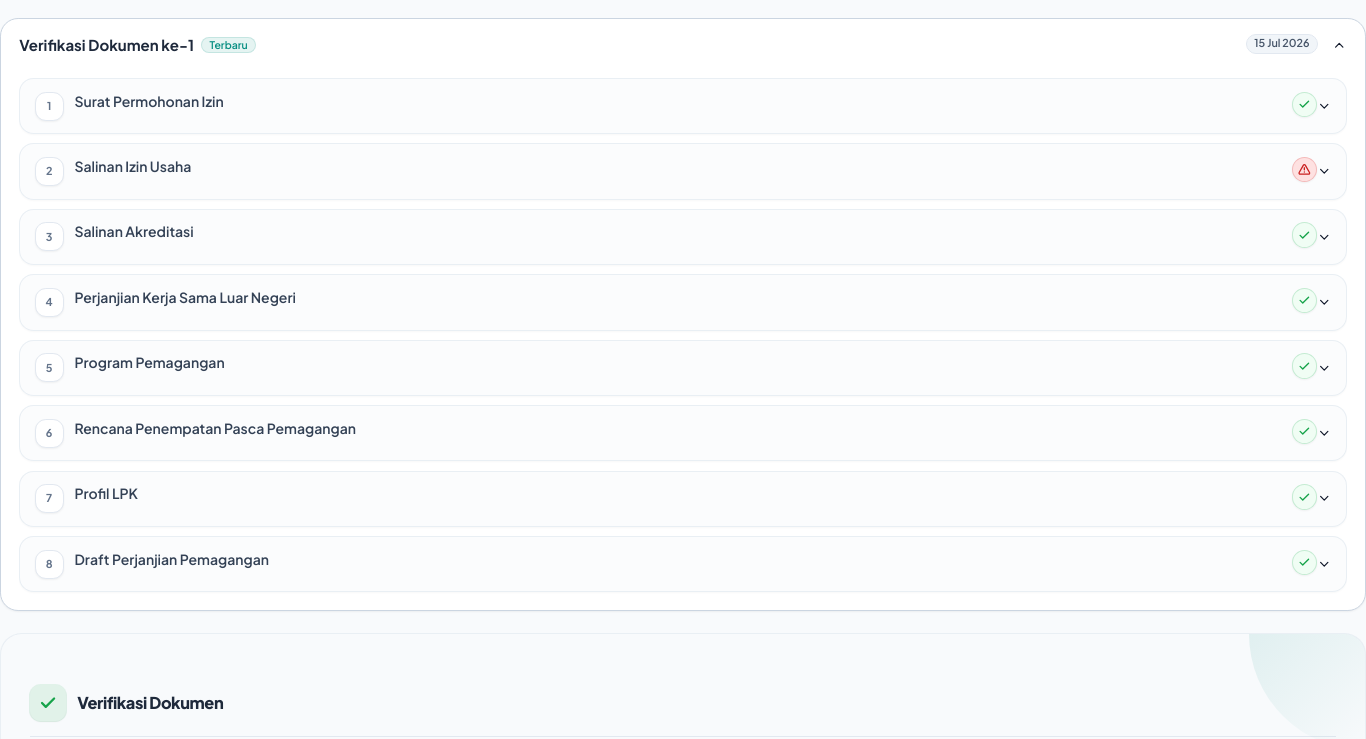
Scenario: session flow › keeps previous revision marker visible while current session decision changes and expands only the latest session by default
Later steps or results of the test are not shown.
Expected: the element titled "Memerlukan Perbaikan" is shown, [1292,157,1317,182]
Step 1. Click the button "2 Salinan Izin Usaha" → (133, 166), box [35,144,1331,199]
(page scrolled)
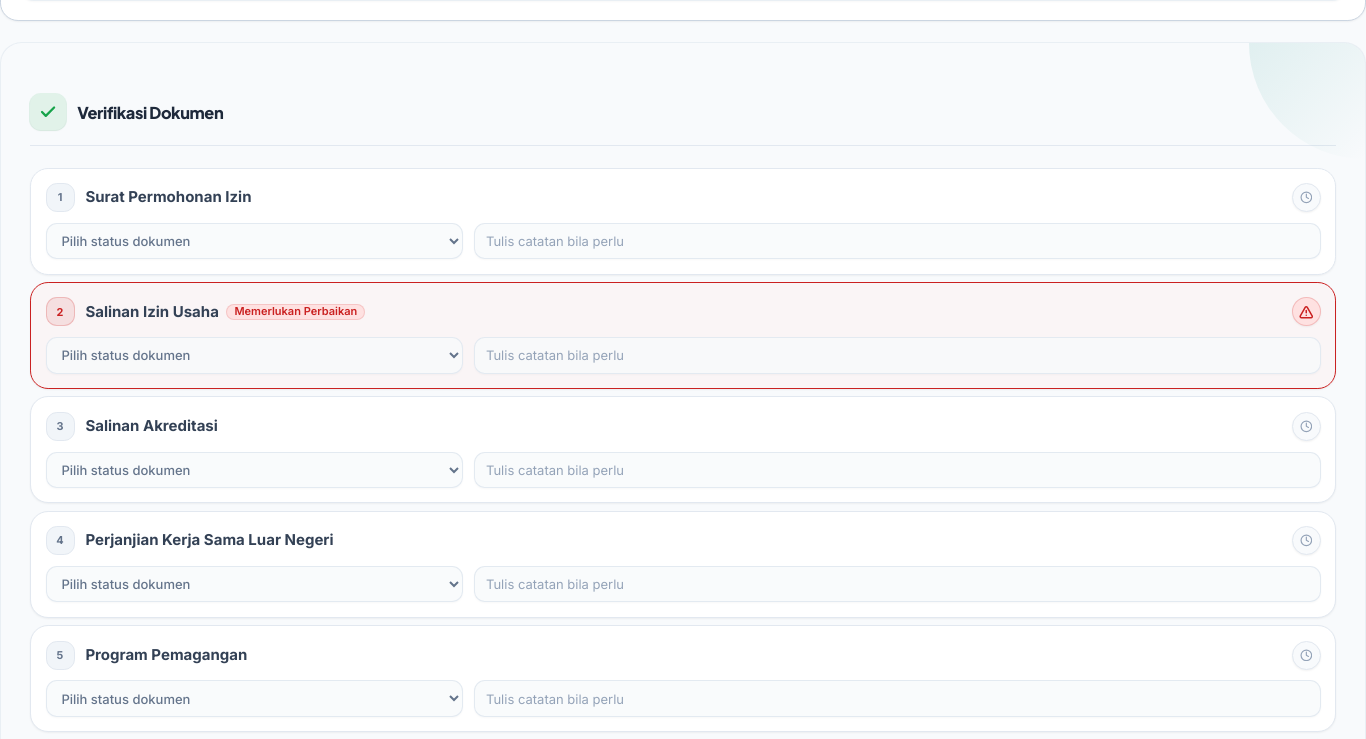
Expected: the 1st element titled "Status belum dipilih" is shown, [1292,183,1320,212]
Step 2. Select "Sesuai Persyaratan" in the 2nd dropdown → (254, 355), box [46,337,463,374]
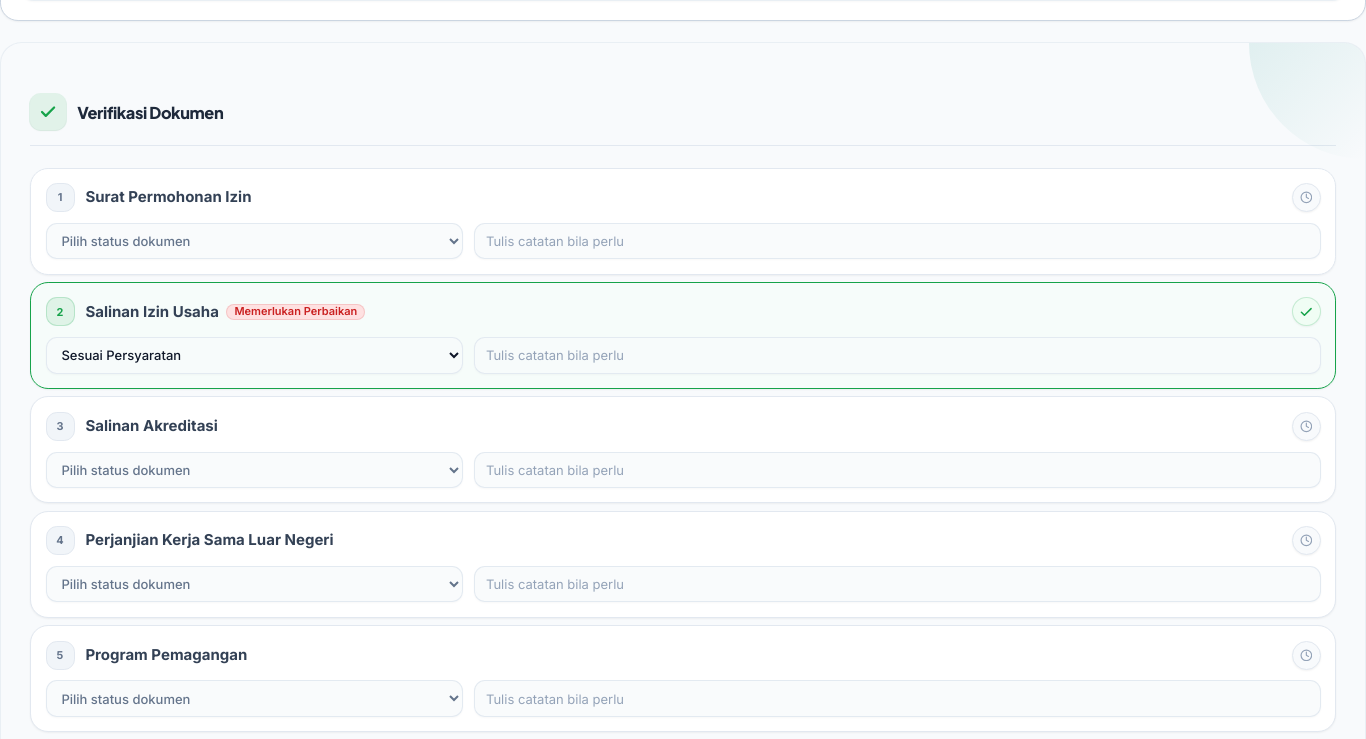
Expected: the text "Memerlukan Perbaikan" is shown, [226,304,365,320]
Result: the element with test id "session-editor-doc-2" has class "border-status-completed" at [30,282,1336,389]
Result: the element with test id "session-editor-doc-2" does not have class "border-status-revision" at [30,282,1336,389]
